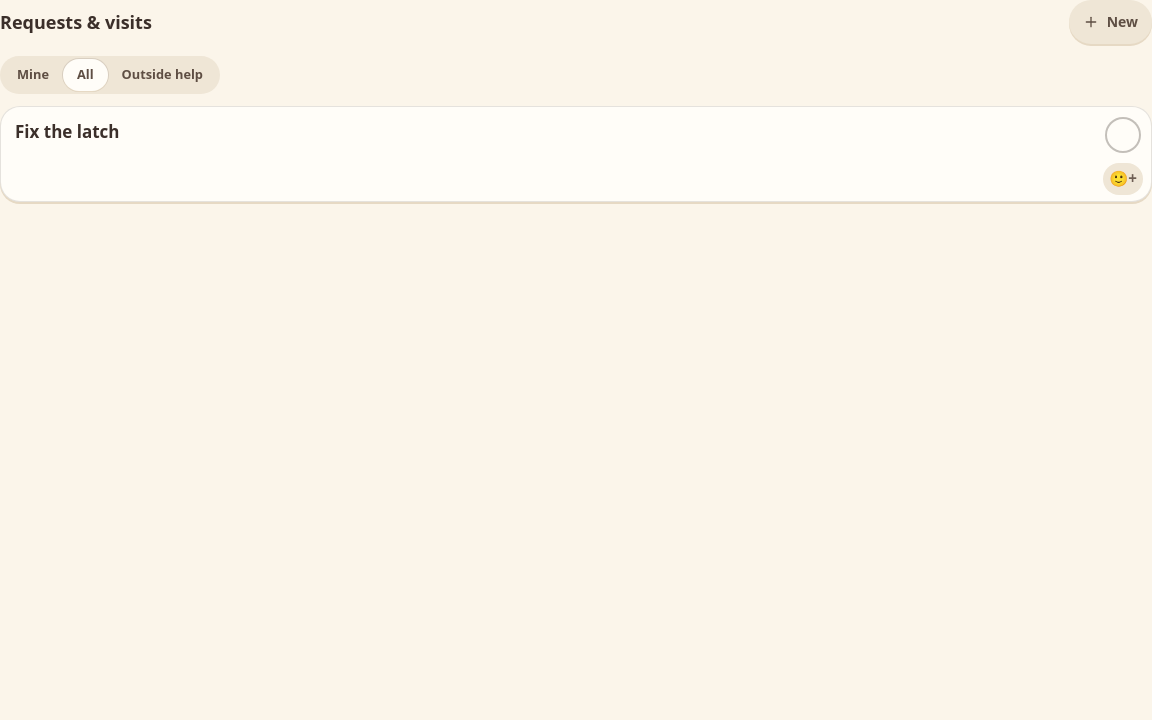
Test case: swipe on a card (FRONTEND §5.1) › "Add a note" opens the item on a note for my feeling; Escape closes the tray
Click the button named "Share a feeling: Fix the latch": (1123, 179) [1101,157,1145,201]
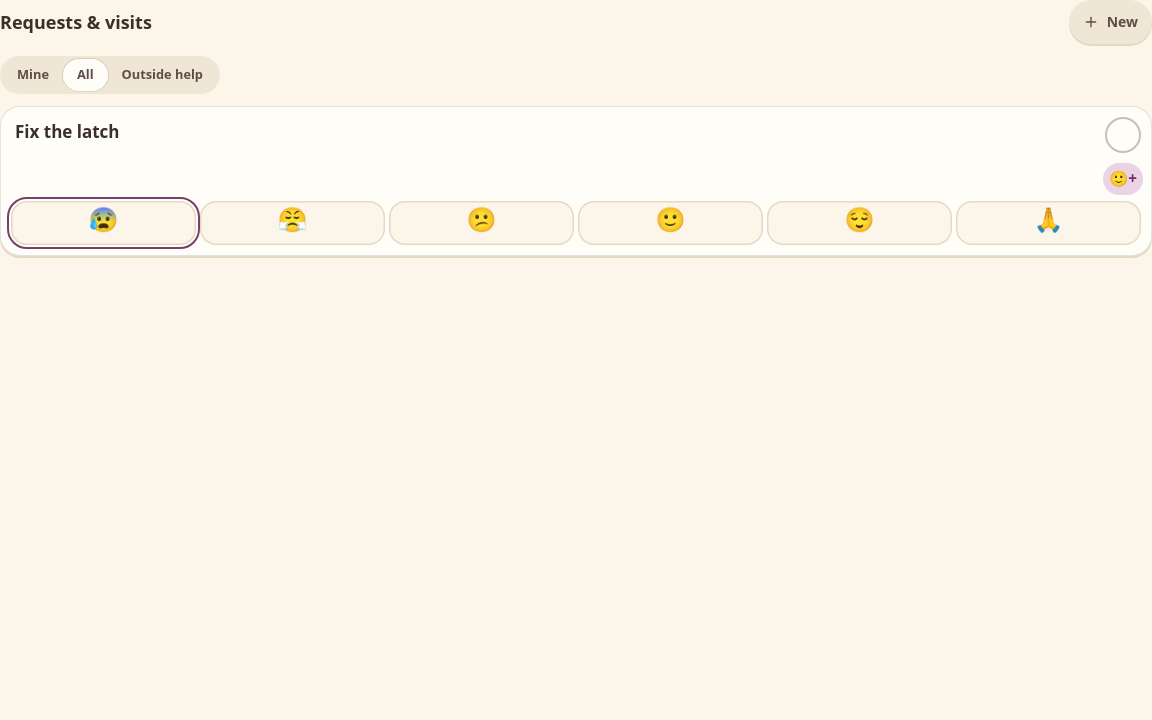
Press Escape
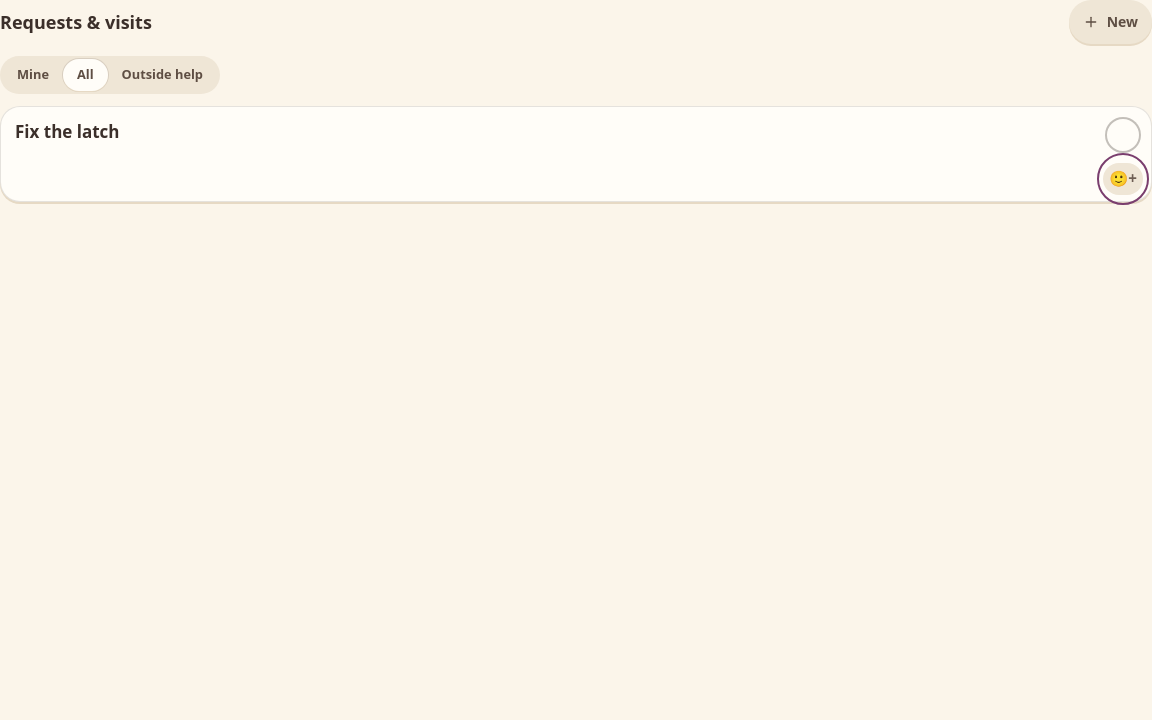
Click the button named "Share a feeling: Fix the latch": (1123, 179) [1101,157,1145,201]
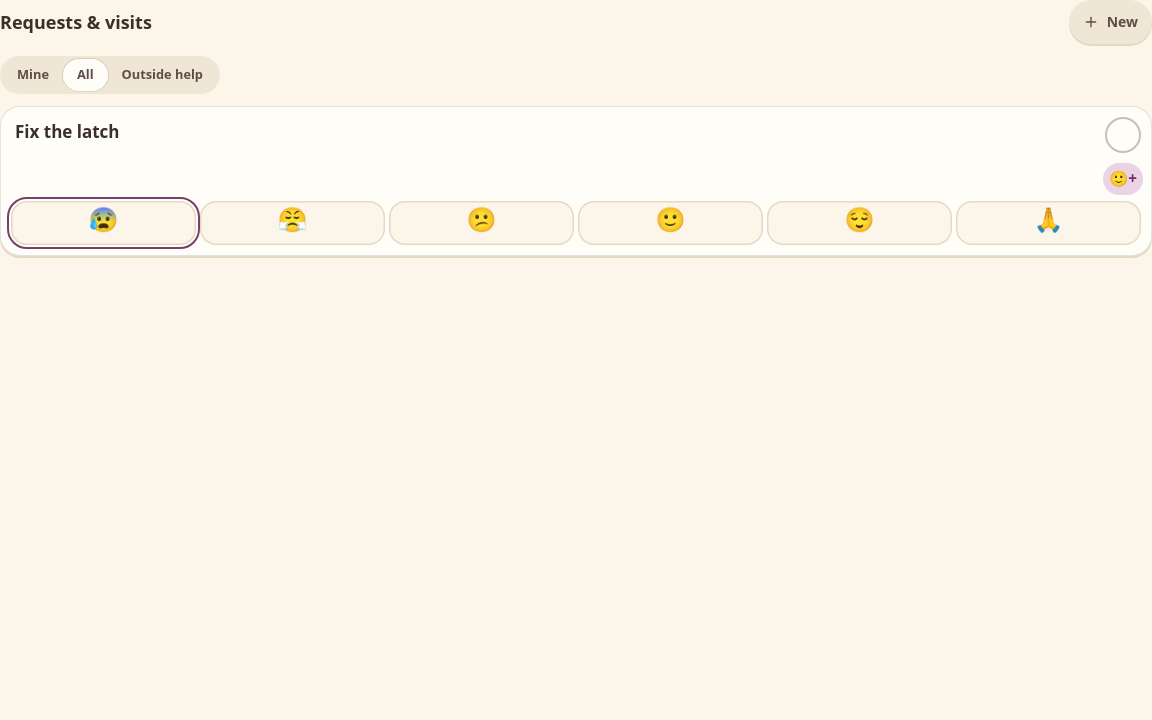
Click the button named "Frustrated": (292, 223) [200,201,385,245]
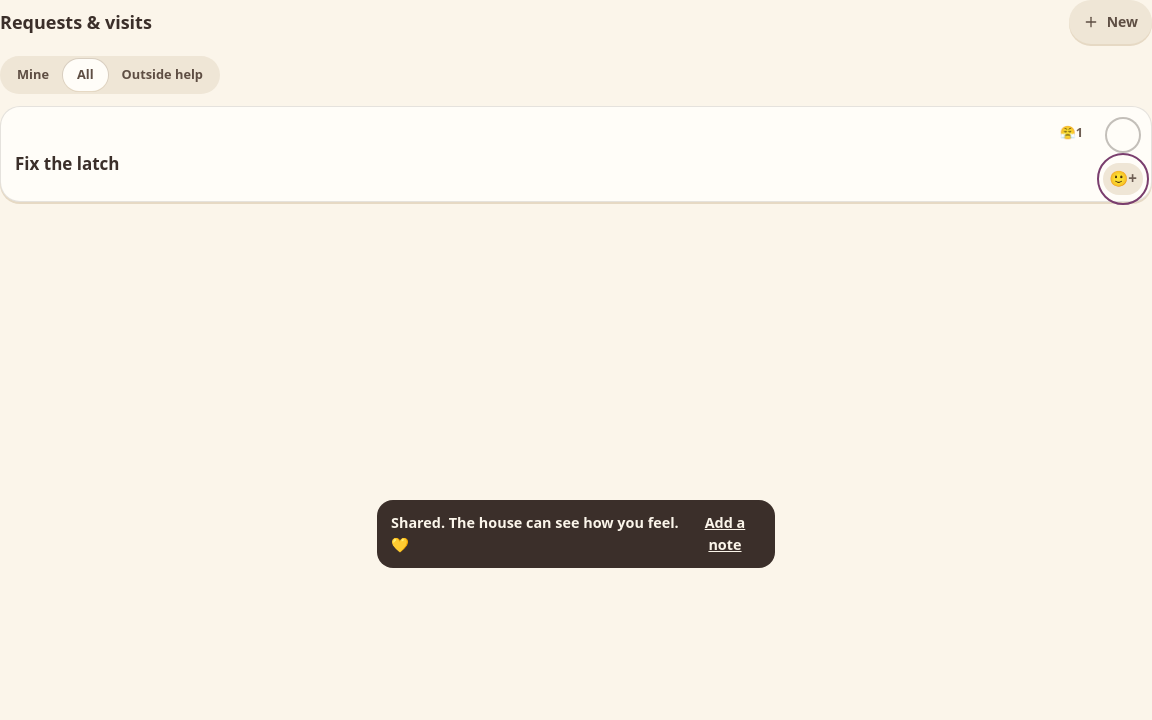
Click the button "Add a note": (725, 534) [689,512,761,556]
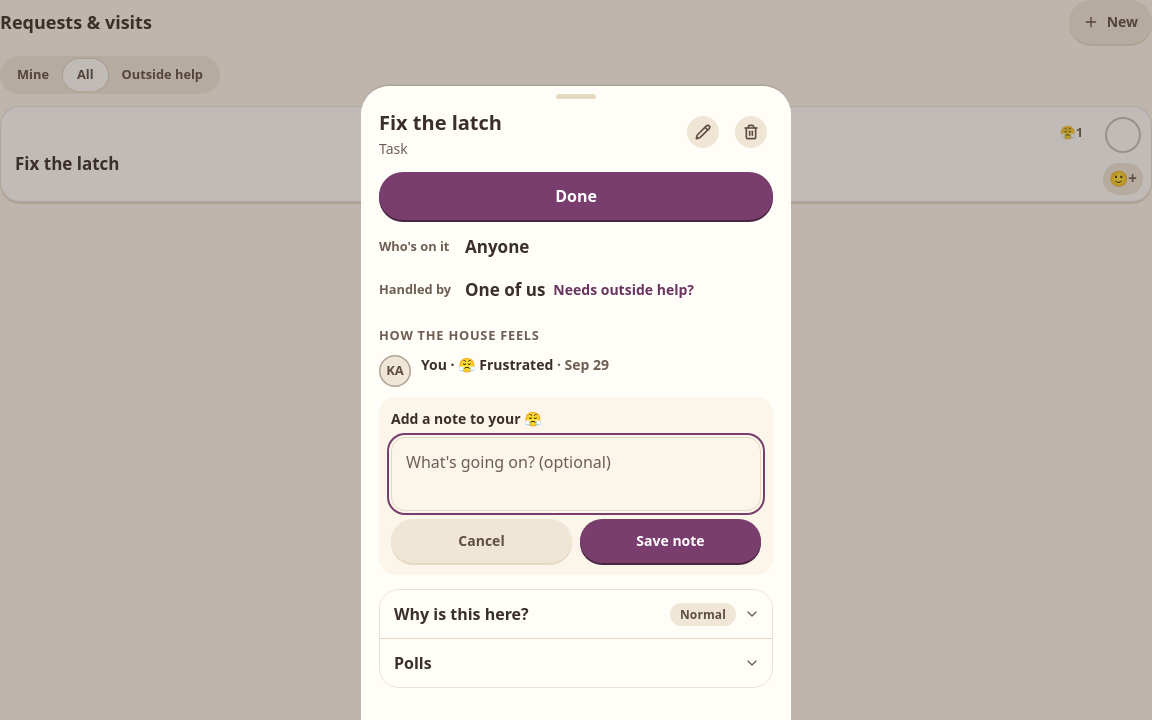
In the text box labelled "Add a note to your 😤": (576, 474) [391,437,761,511], type "Third time this month"
Click the button "Save note": (670, 541) [580,519,761,563]
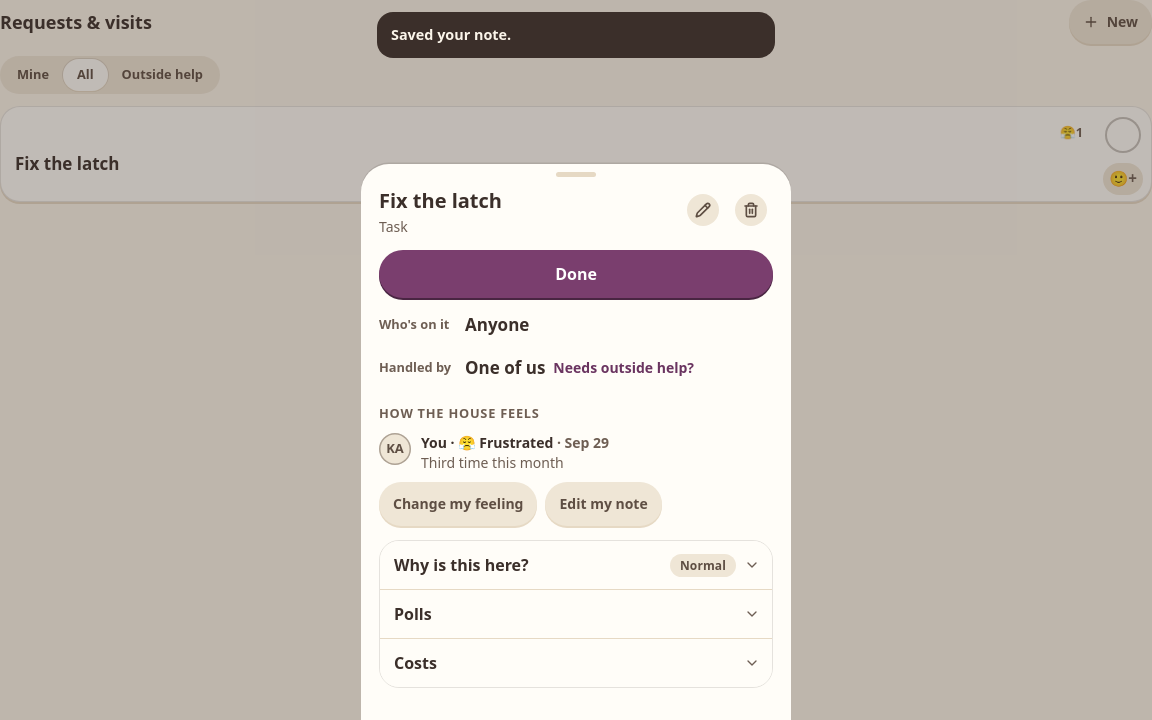
Expected: the text "Saved your note." is shown, [391,24,511,46]
Expected: the text "Third time this month" is shown, [421,453,564,472]
